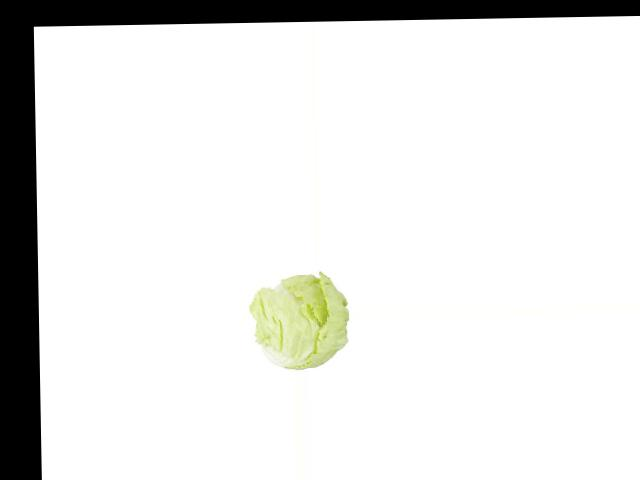lettuce: (252, 273, 349, 373)
